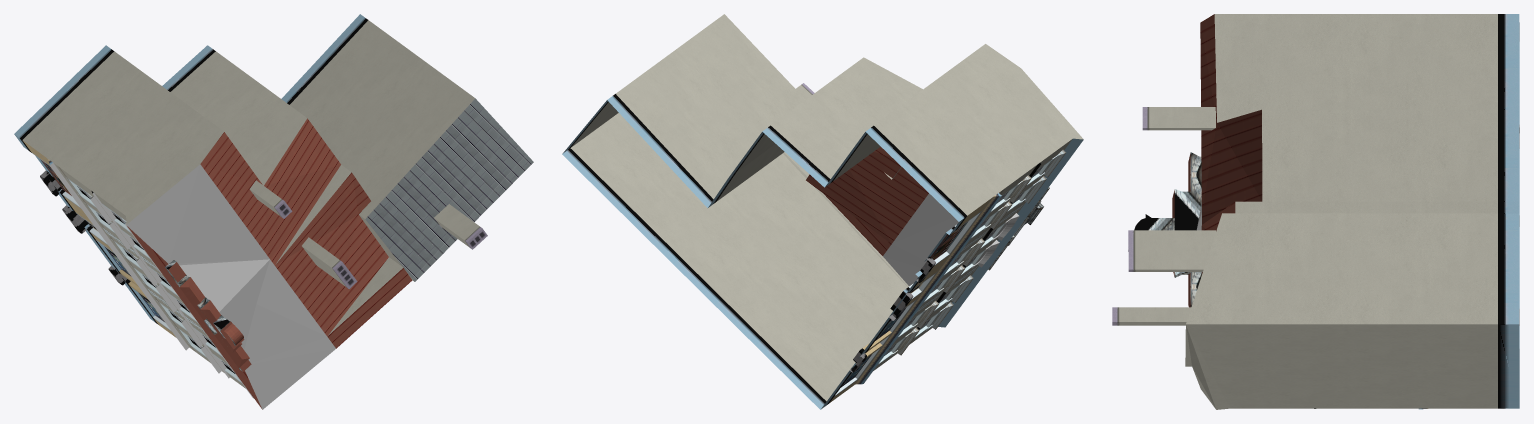
3 views of the same model, side by side, from view 1: azimuth 30°, elevation 25°; view 2: azimuth 150°, elevation 25°; view 3: azimuth 270°, elevation 25° (orthographic). The views are drawn at different scales.
Visible parts, largest first — view 1: Suur_Karja_3; view 2: Suur_Karja_3; view 3: Suur_Karja_3.
Part boxes in pixels (x1=…): Suur_Karja_3: x1=14, y1=14, x2=533, y2=409; Suur_Karja_3: x1=562, y1=14, x2=1083, y2=409; Suur_Karja_3: x1=1112, y1=14, x2=1519, y2=409.
Bounding box in the file's own units: 26.2 × 18.23 × 18.1.
